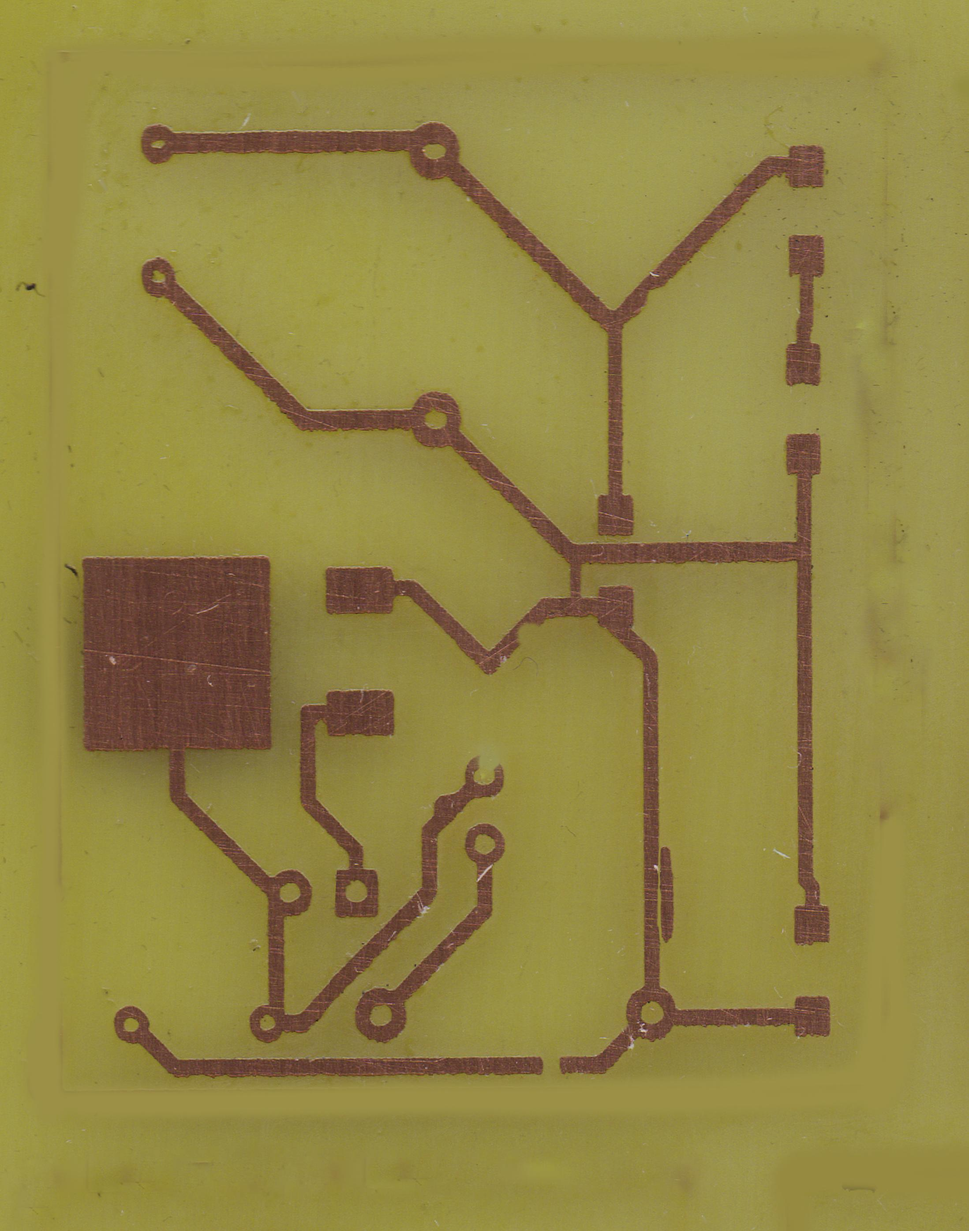missing_hole: (465, 754, 505, 798)
mouse_bite: (513, 620, 543, 648), (640, 283, 666, 308)
open_circuit: (531, 1056, 570, 1076)
short: (562, 544, 591, 616)
spur: (430, 791, 458, 819)
spurious_copper: (659, 846, 674, 945)
